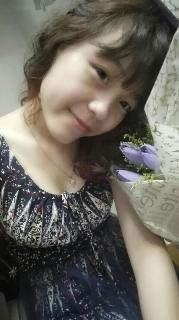vest: (0, 129, 179, 320)
